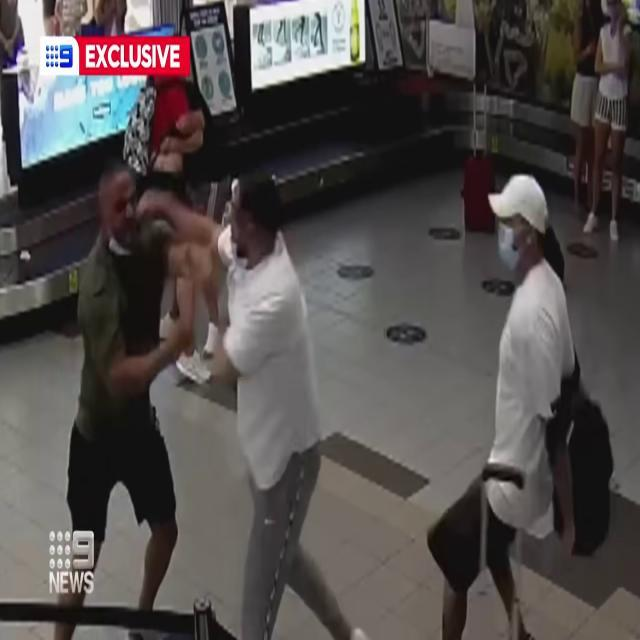non-violence: (448, 167, 570, 640), (572, 0, 628, 241), (0, 0, 26, 189), (55, 0, 91, 37), (94, 0, 128, 34)
violence: (68, 163, 322, 592), (120, 48, 231, 160)
